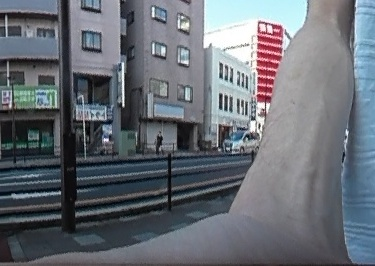person: (154, 129, 163, 150)
